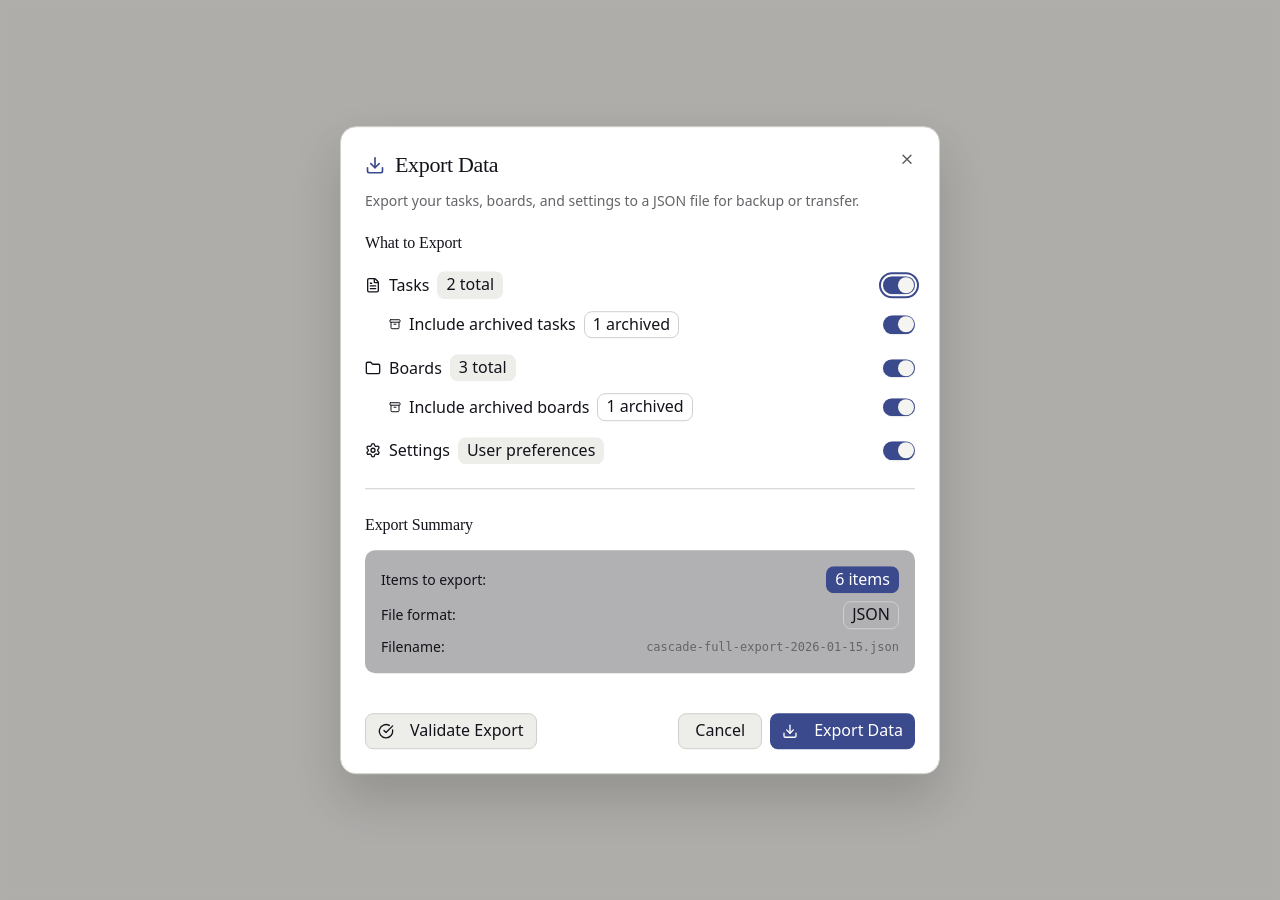
Test case: critical dialog flows › does not export when validation fails
The image size is (1280, 900).
Click the button "Export Data".
click(843, 731)  # box [770,713,915,749]
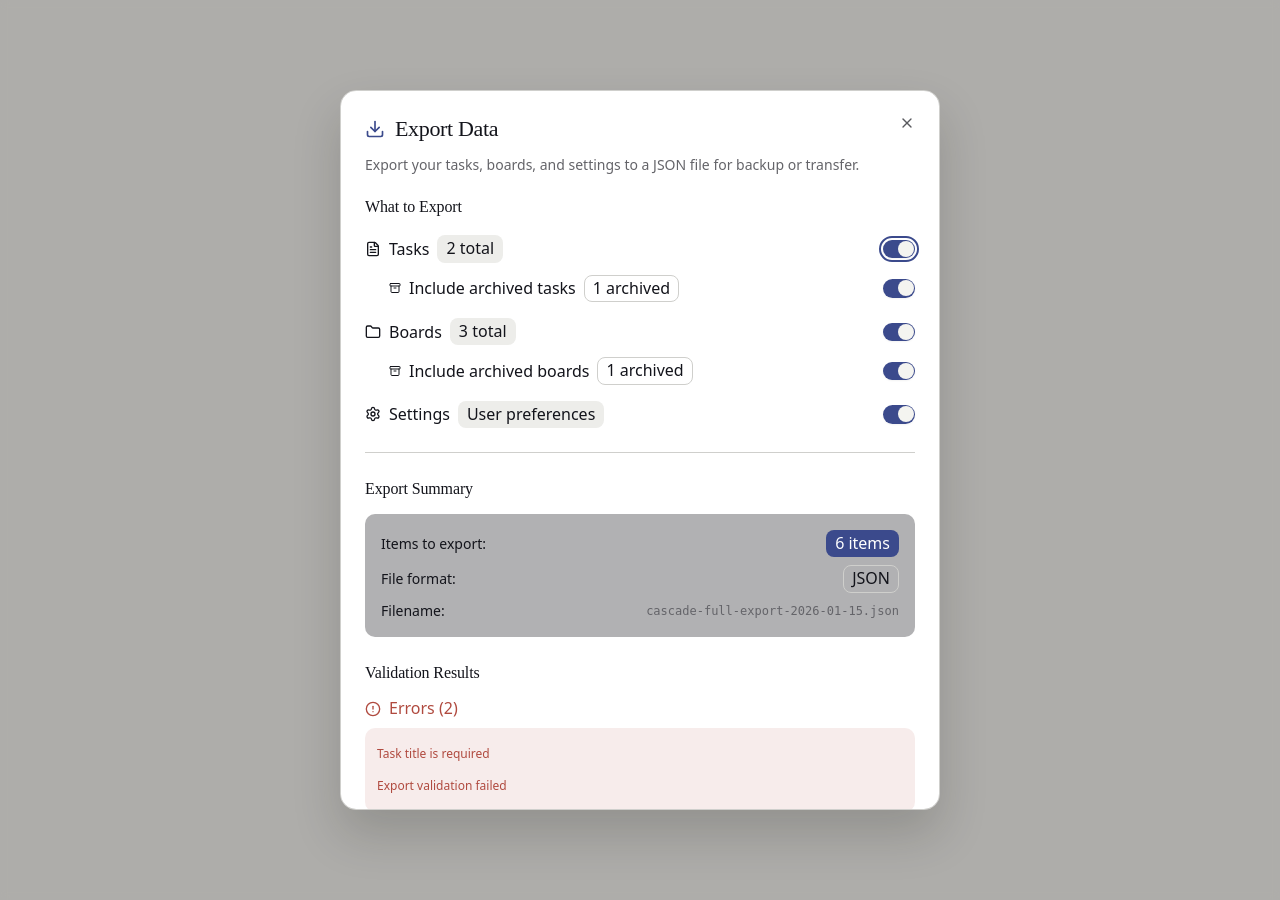
Expected: the text "Task title is required" is shown, [377,745,490,762]
Expected: the text "Export validation failed" is shown, [377,777,507,794]
